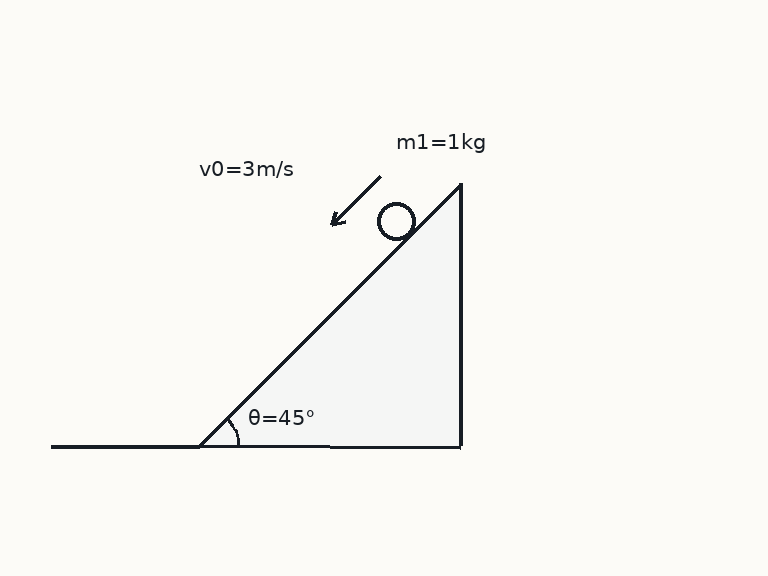ball: (375, 200, 417, 242)
ramp: (196, 182, 462, 448)
